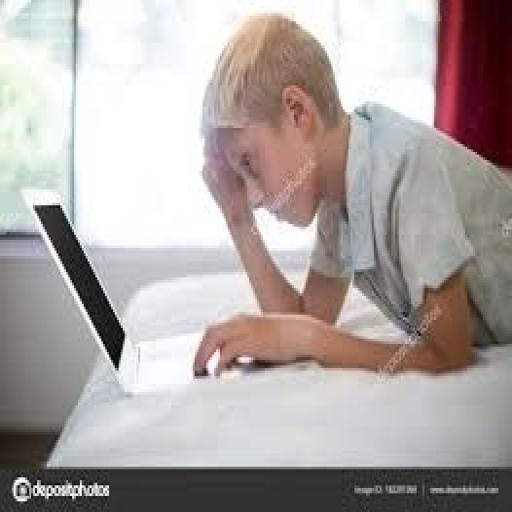using_laptop: (23, 187, 300, 397)
